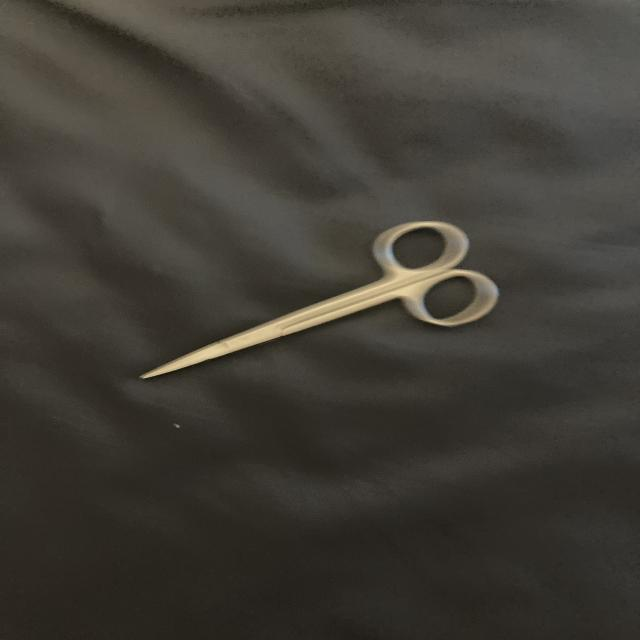scissor: (126, 210, 507, 398)
